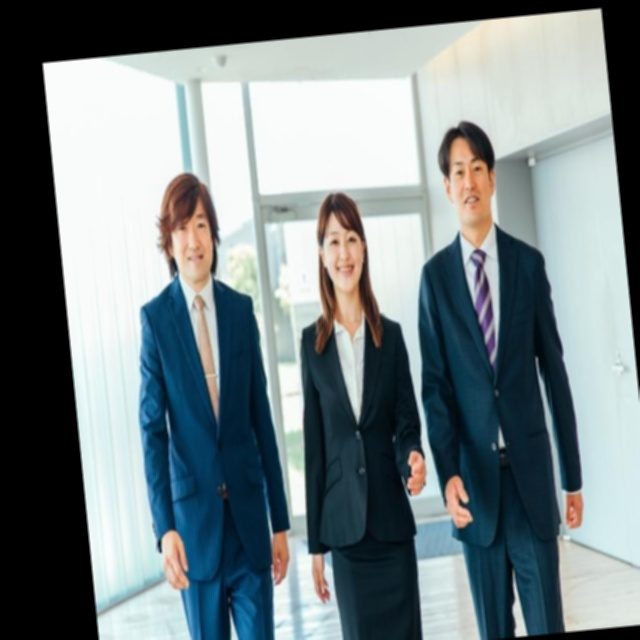Sin_Casco_Mascarrilla: (151, 168, 225, 277), (436, 120, 500, 225), (312, 190, 371, 298)
Sin_Chaleco: (415, 218, 567, 509), (134, 273, 275, 532), (297, 302, 424, 537)
